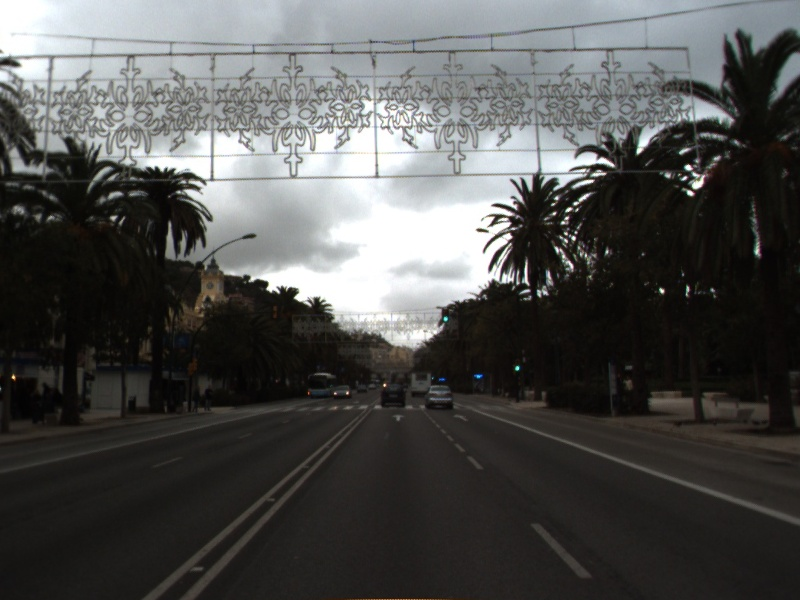STRAIGHT: (450, 411, 472, 423), (390, 412, 407, 423)
